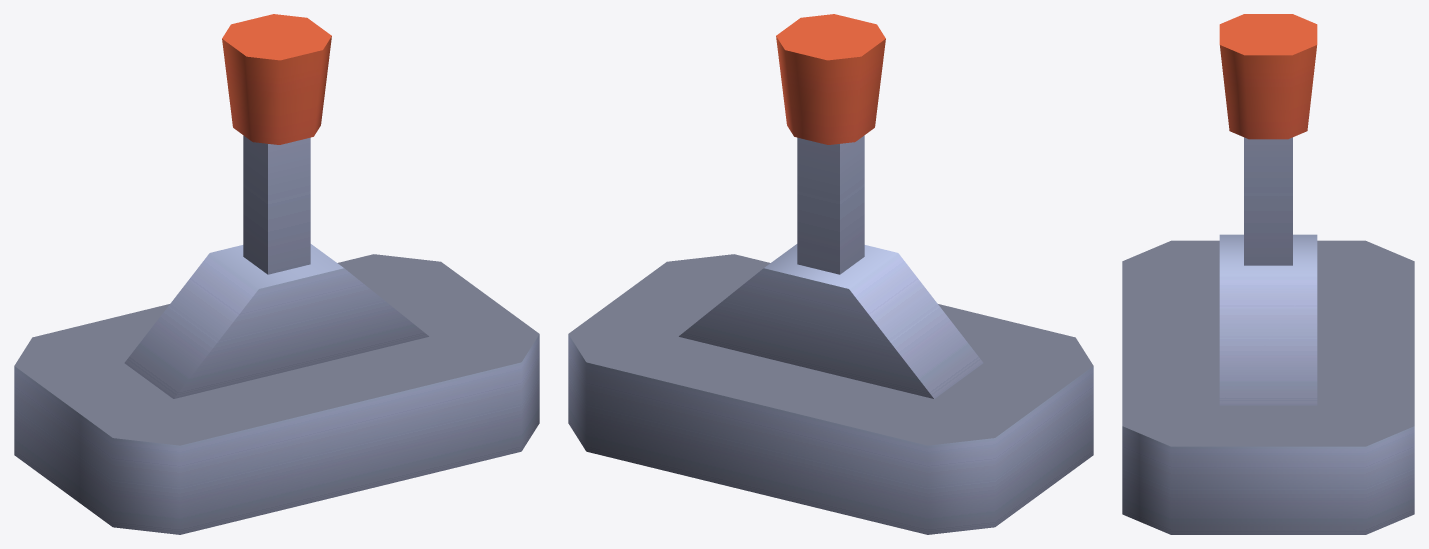
Rendered from lever-single.glb.
3 renders of one model, left to right at view 1: azimuth 30°, elevation 25°; view 2: azimuth 150°, elevation 25°; view 3: azimuth 270°, elevation 25°, orthographic.
Visible parts, largest first — view 1: lever-single, handle; view 2: lever-single, handle; view 3: lever-single, handle.
Part boxes in pixels (left/top/right/bottom): lever-single: left=14, top=244, right=539, bottom=534; handle: left=222, top=14, right=331, bottom=274; lever-single: left=568, top=244, right=1093, bottom=534; handle: left=776, top=14, right=885, bottom=274; lever-single: left=1122, top=234, right=1414, bottom=534; handle: left=1219, top=14, right=1317, bottom=265.
Size of the model in its own units: 0.5 by 0.45 by 0.3.
1 material, 1 textured.
